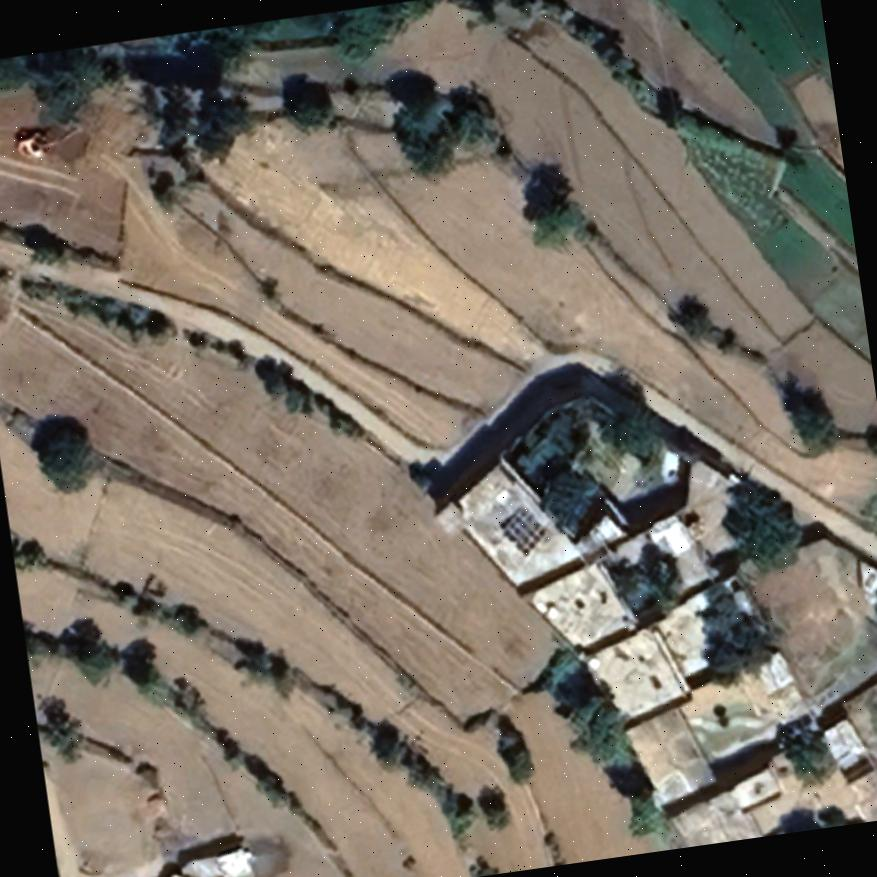Solarpanel: (493, 500, 552, 560)
